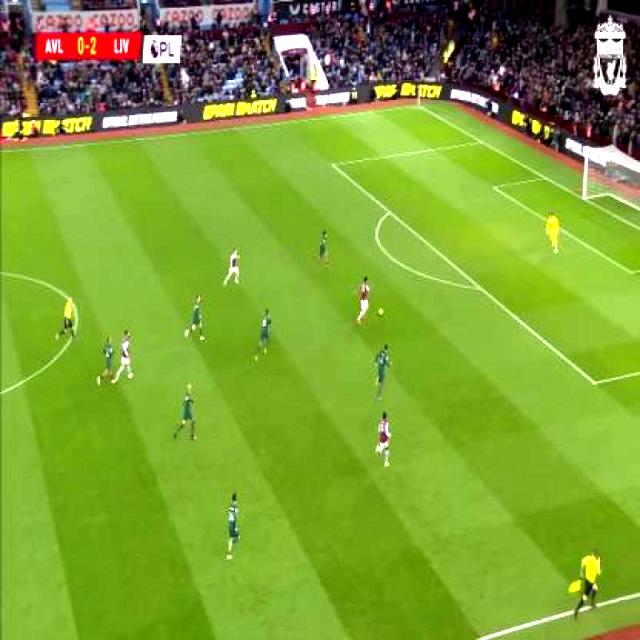bigarea_bottom_inner: (589, 371, 601, 394)
bigarea_top_inner: (326, 158, 340, 172)
bigarea_top_outter: (477, 135, 488, 150)
bottom_arc_area_intersection: (474, 275, 488, 300)
corner: (412, 103, 424, 112)
smallarea_bottom_inner: (624, 264, 639, 282)
smallarea_top_inner: (490, 177, 500, 198)
smallarea_top_outter: (540, 171, 552, 186)
top_arc_area_intersection: (384, 205, 396, 223)
